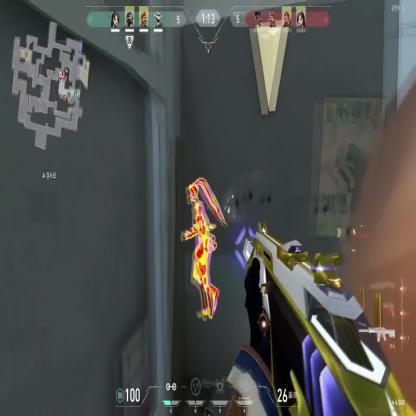enemy: (178, 175, 228, 320)
enemy_head: (188, 184, 197, 206)
